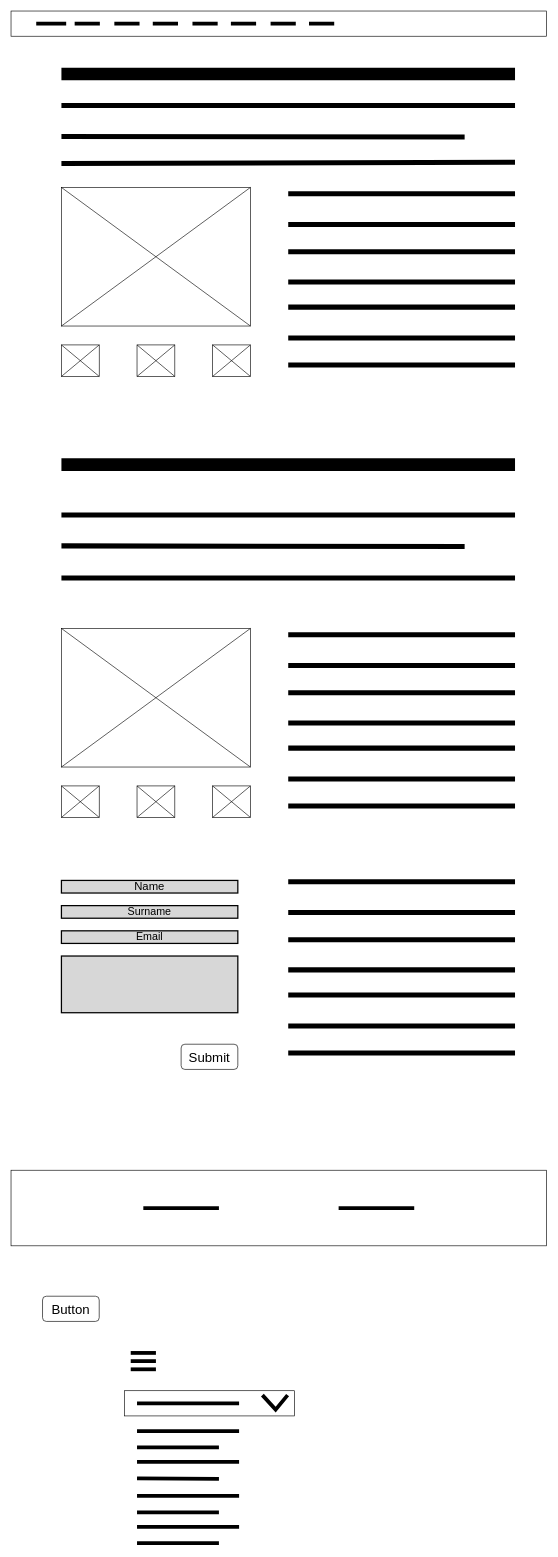
Some shapes in this 558 by 1557 pixel diagram are drawn without their labels. Each missing label, with the centre of its shape:
Address: point (149, 984)
Footer: point (278, 1208)
